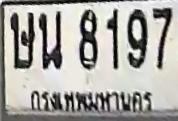1: (105, 8, 120, 68)
7: (152, 7, 172, 67)
8: (78, 8, 97, 70)
9: (126, 8, 148, 68)
A25: (39, 11, 63, 70)
A39: (10, 11, 36, 70)
BKK: (26, 86, 155, 116)
